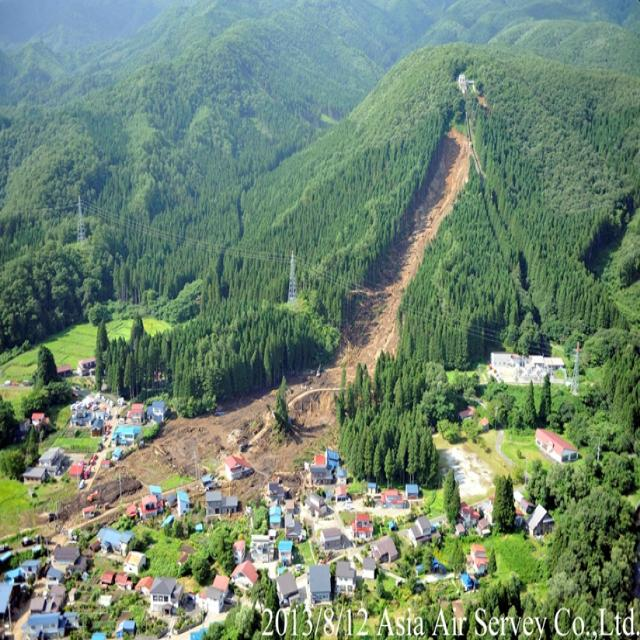Debris-flow: (136, 128, 470, 481)
